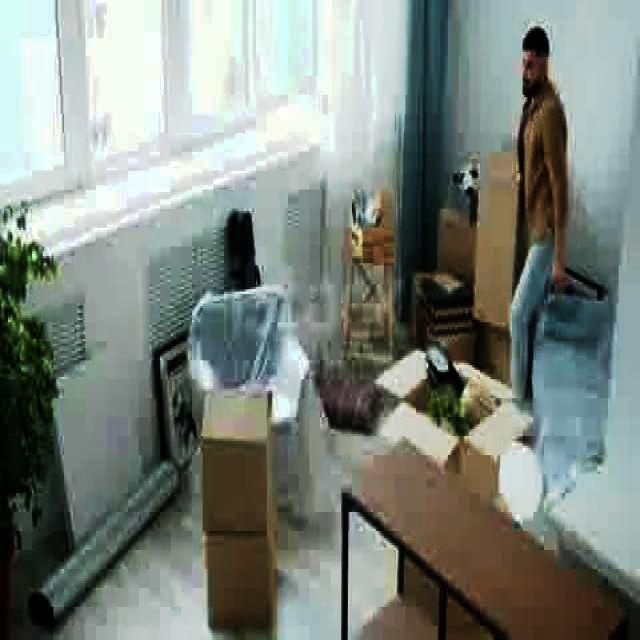Box: (200, 384, 272, 529), (208, 530, 267, 624)
